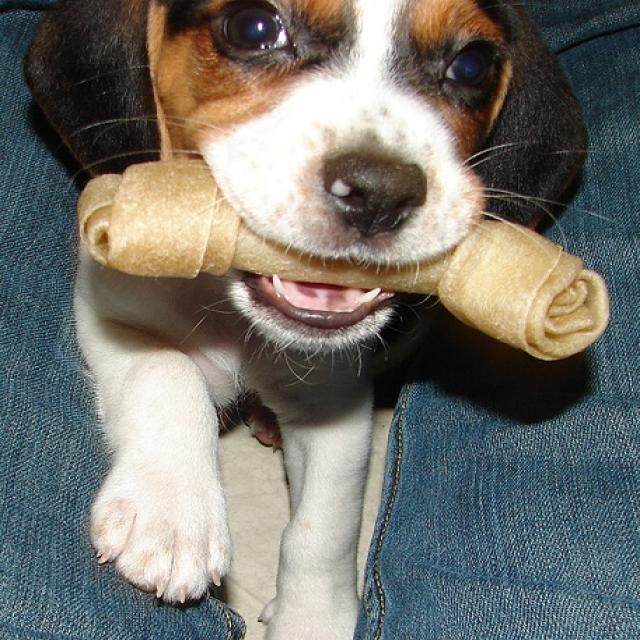dog: (22, 1, 610, 640)
